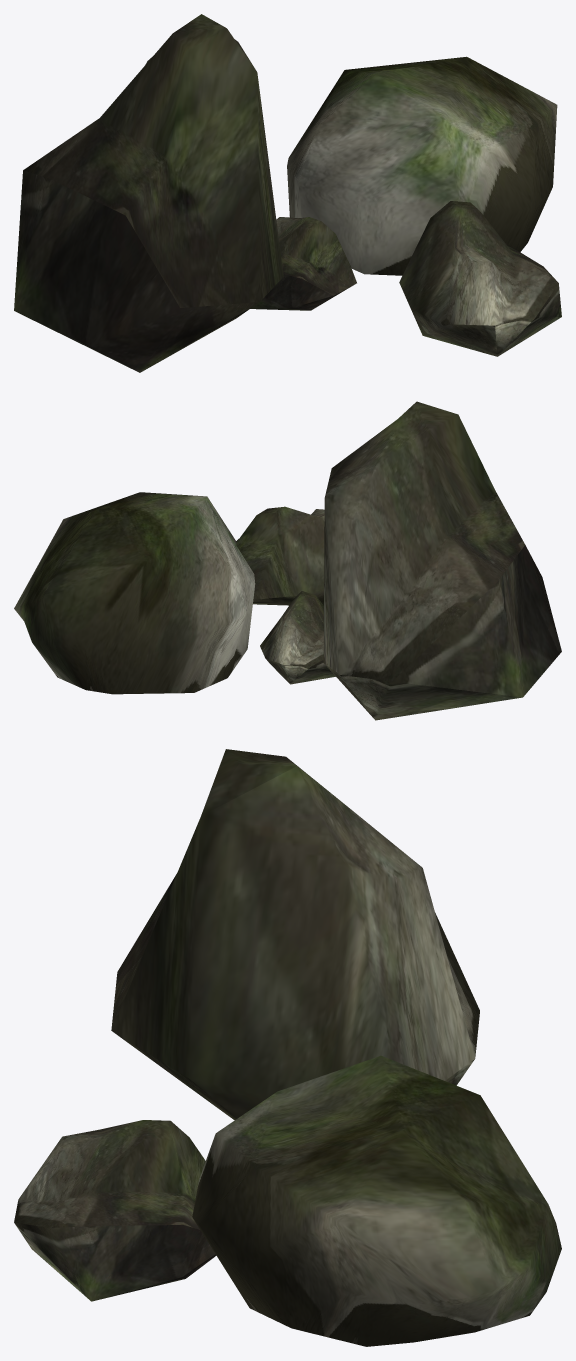
Rendered from zz_dont_use_rocks_LT_group_2G.fbx.
3 renders of one model, top to bottom at view 1: azimuth 30°, elevation 25°; view 2: azimuth 150°, elevation 25°; view 3: azimuth 270°, elevation 25°, orthographic. The views are drawn at different scales.
Visible parts, largest first — view 1: rock_4_High, rock_1_High, rock_3_High, rock_2_High; view 2: rock_4_High, rock_1_High, rock_3_High, rock_2_High; view 3: rock_4_High, rock_1_High, rock_3_High.
Part boxes in pixels (x1=…): rock_4_High: x1=14, y1=14, x2=283, y2=372; rock_1_High: x1=287, y1=56, x2=557, y2=275; rock_3_High: x1=399, y1=201, x2=561, y2=356; rock_2_High: x1=250, y1=217, x2=356, y2=310; rock_4_High: x1=323, y1=401, x2=561, y2=720; rock_1_High: x1=14, y1=492, x2=255, y2=694; rock_3_High: x1=236, y1=506, x2=324, y2=605; rock_2_High: x1=260, y1=591, x2=335, y2=684; rock_4_High: x1=111, y1=749, x2=479, y2=1120; rock_1_High: x1=192, y1=1055, x2=561, y2=1346; rock_3_High: x1=14, y1=1120, x2=216, y2=1301.
Size of the model in its own units: 1026 by 564 by 739.
1 material, 1 textured.
